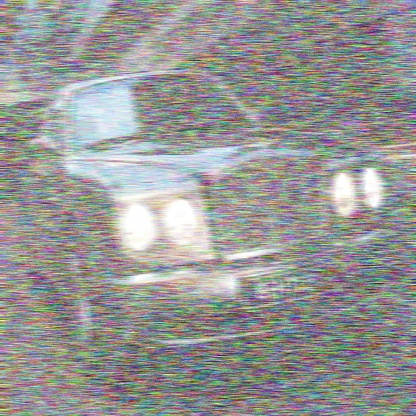Vehicle: (16, 67, 403, 382)
